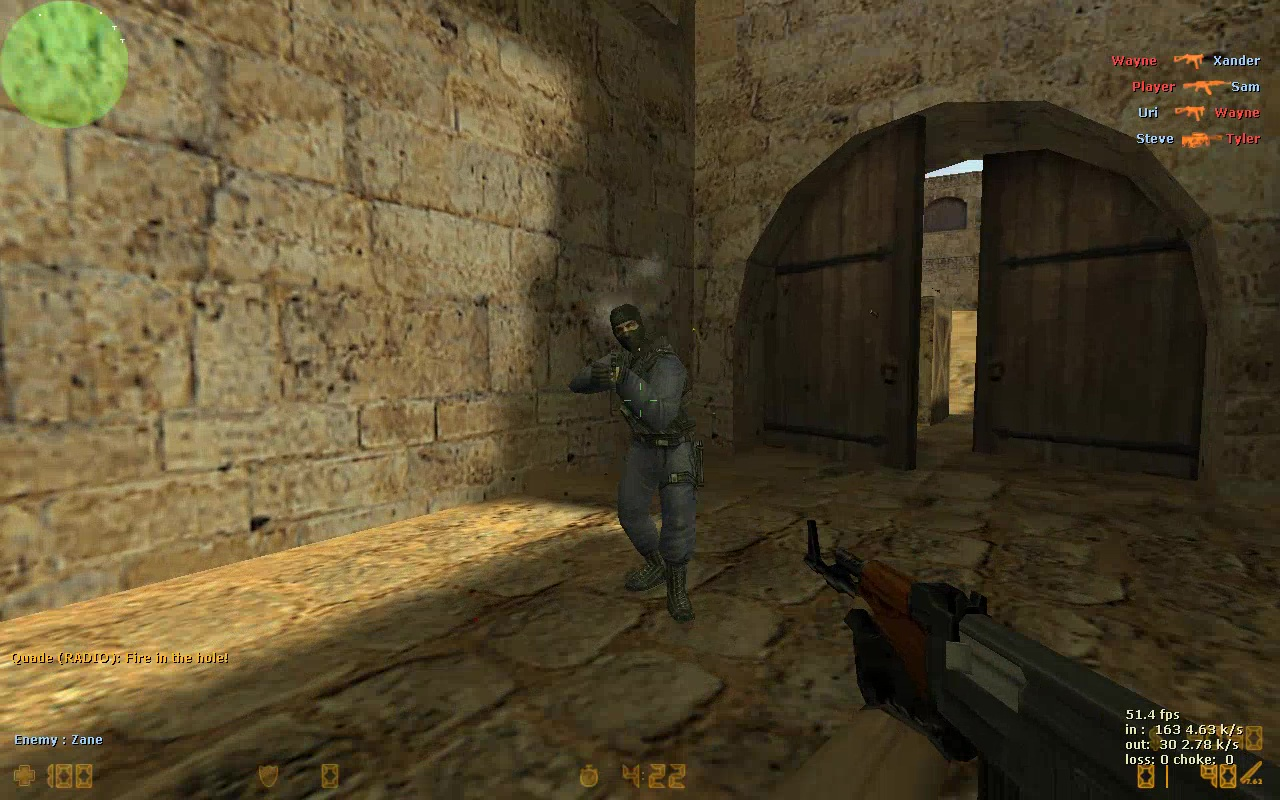ct: (569, 304, 703, 625)
